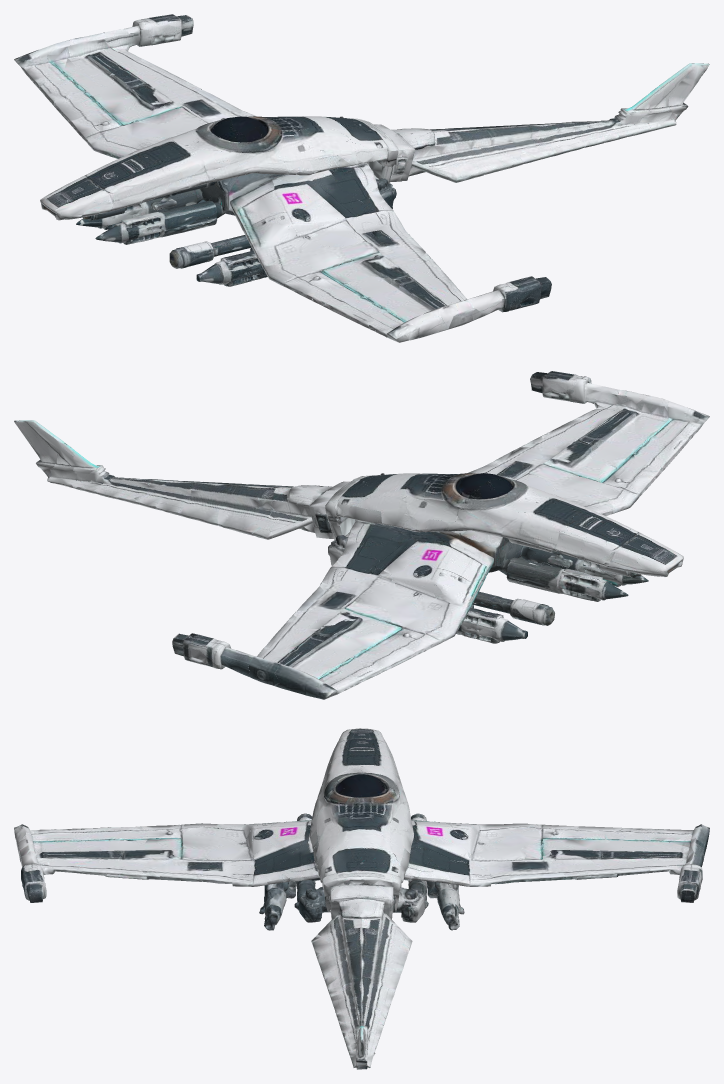
The model's file is seek.glb.
3 views of the same model, one above another, from view 1: azimuth 30°, elevation 25°; view 2: azimuth 150°, elevation 25°; view 3: azimuth 270°, elevation 25° (orthographic). The views are drawn at different scales.
Parts seen in each view (by area): view 1: Mesh_0; view 2: Mesh_0; view 3: Mesh_0.
Boxes of the visible parts, x1,y1,x2,y2 form: Mesh_0: (14,14,709,342); Mesh_0: (14,371,709,699); Mesh_0: (14,728,709,1069).
Bounding box in the file's own units: 1.9 × 0.3254 × 1.9.
1 material, 1 textured.
